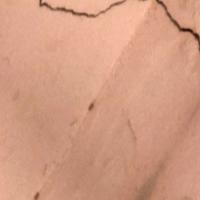crack: (37, 0, 199, 54)
